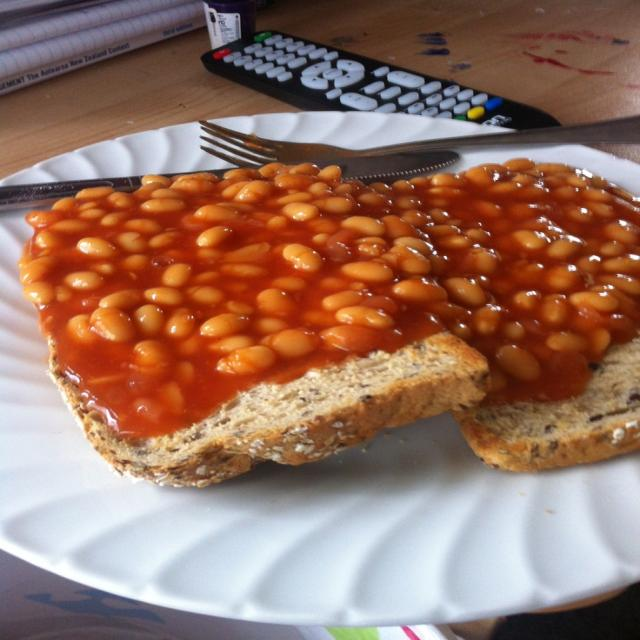sliced_bread: (50, 333, 488, 487), (454, 333, 639, 471)
